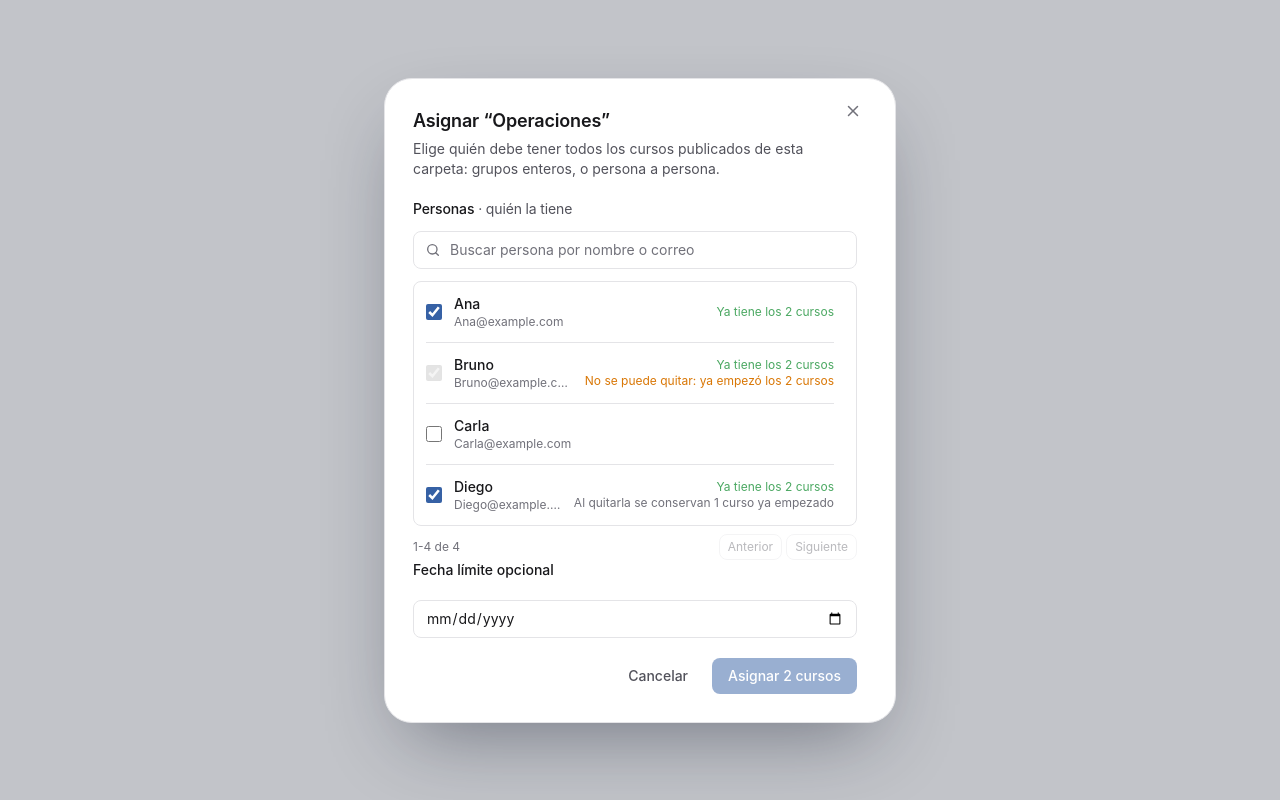
Test: FolderAssignmentDialog › ticking assigns › assigns one person and removes another in the same pass
The width and height of the screenshot is (1280, 800).
Expected: the text "Ana" is shown, [454,294,480,312]
Expected: the checkbox labelled "Ana Ana@example.com Ya tiene los 2 cursos" is checked, [426,304,442,320]
What coordinates should you click on to do the following:
click the checkbox labelled "Carla Carla@example.com"
I would click on:
 (434, 434)
Its box is [426,426,442,442].
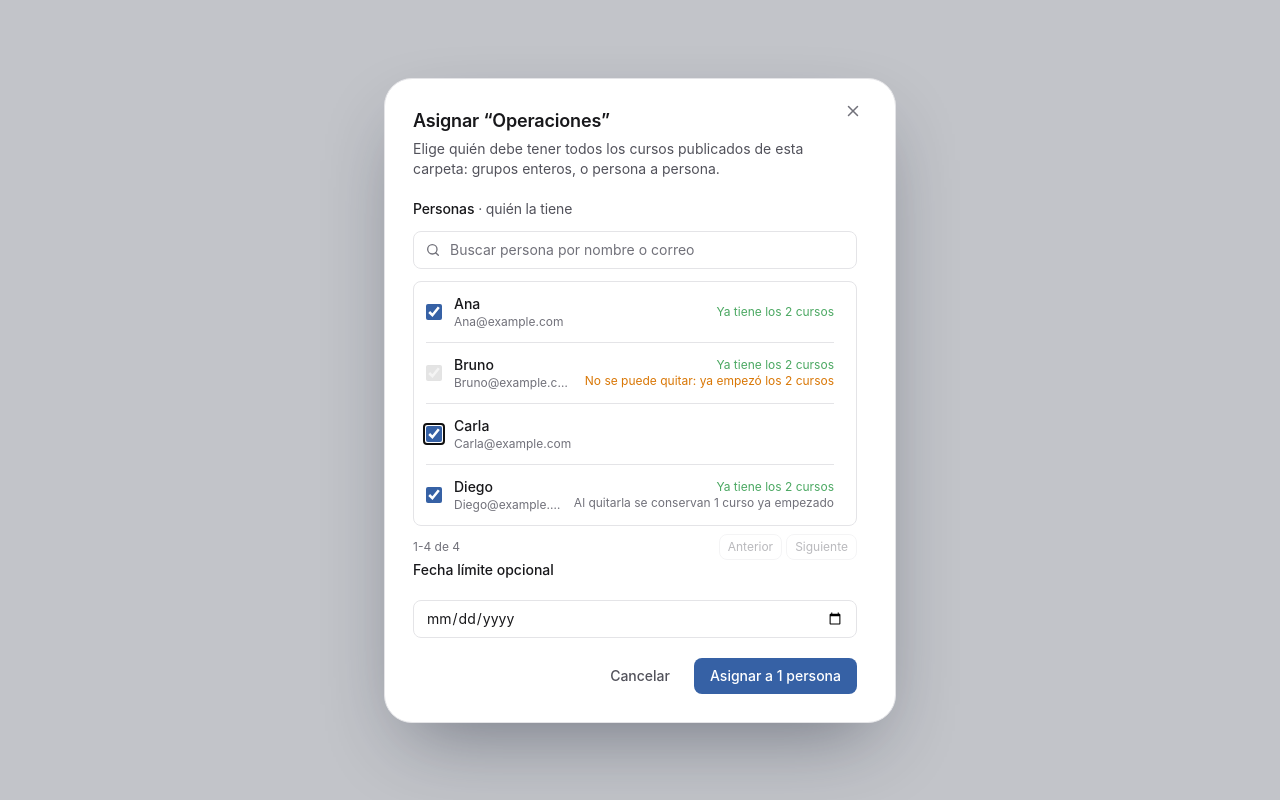
What coordinates should you click on to do the following:
click the checkbox labelled "Ana Ana@example.com Ya tiene los 2 cursos"
I would click on:
 (434, 312)
Its box is [426,304,442,320].
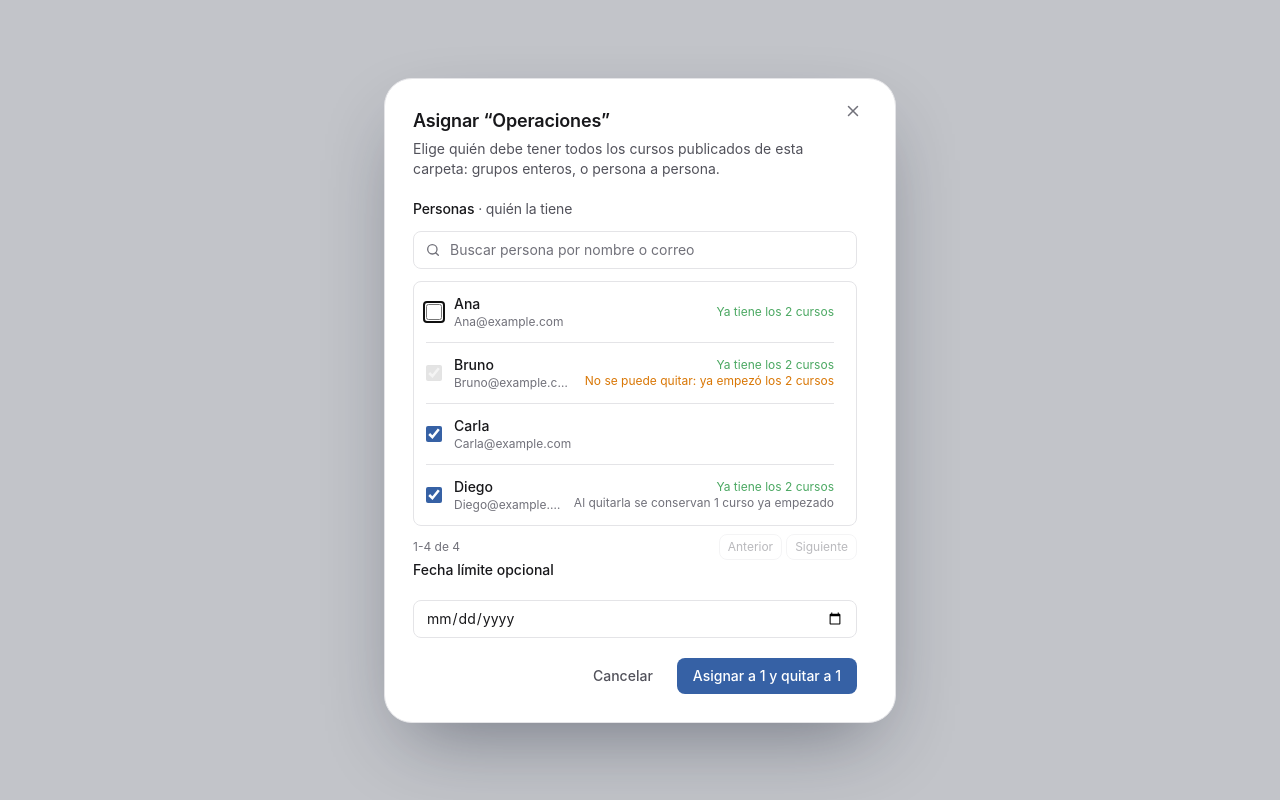
// The button says both halves out loud before it does either.
What coordinates should you click on to do the following:
click the button "Asignar a 1 y quitar a 1"
I would click on:
 (767, 676)
Its box is [677,658,857,694].
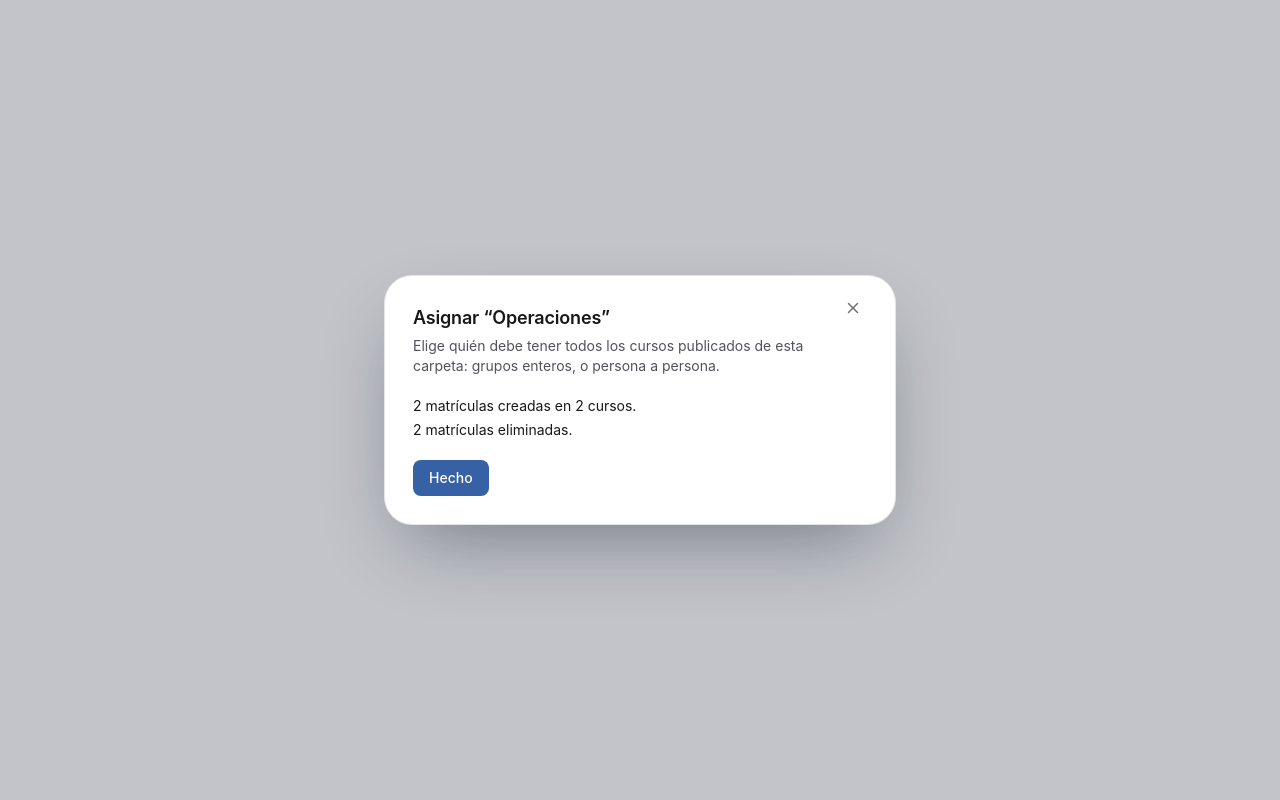
Expected: the text "2 matrículas eliminadas." is shown, [413,421,572,438]
